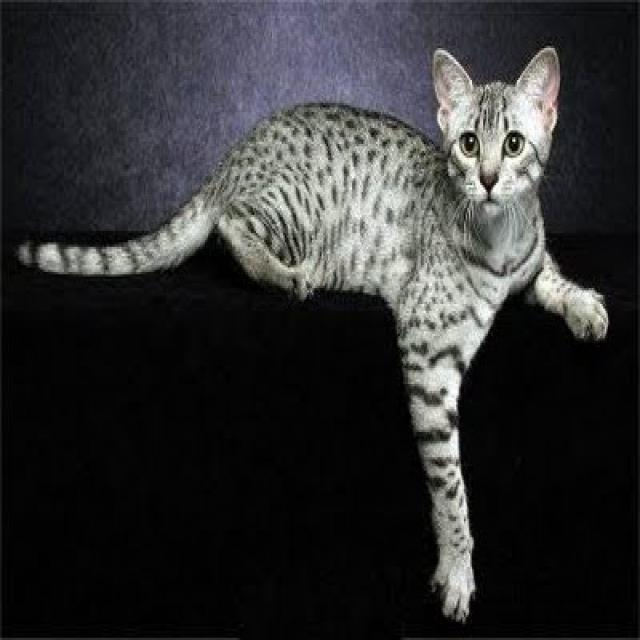Egyptian_Mau: (429, 41, 557, 210)
